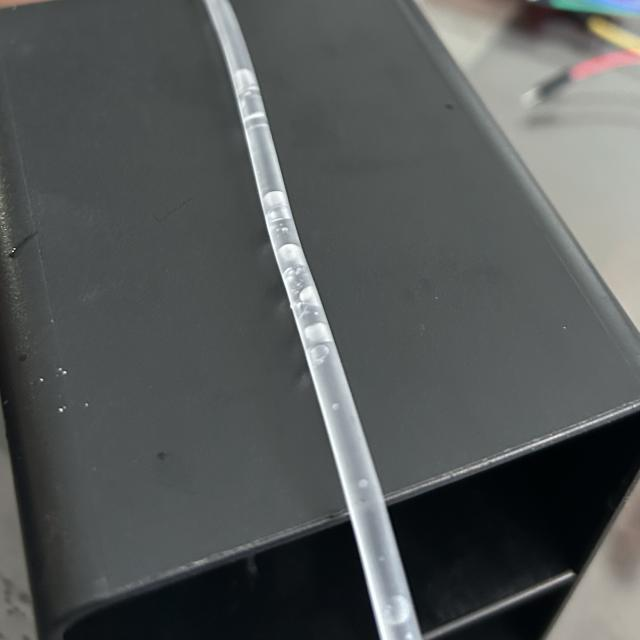bubble: (223, 60, 260, 93), (342, 474, 376, 498), (240, 112, 277, 134), (297, 290, 325, 315), (298, 345, 336, 362), (276, 245, 310, 263), (325, 391, 345, 418), (262, 184, 285, 206), (271, 223, 298, 240), (286, 263, 302, 288)
